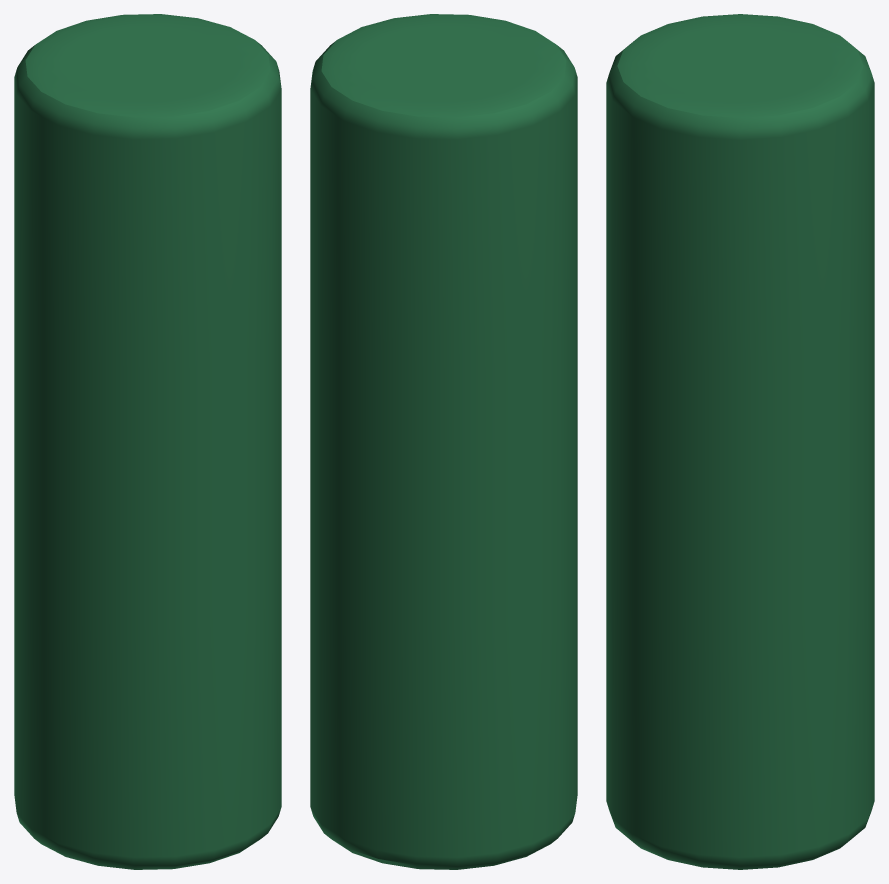
File: Log.fbx
3 views of the same model, side by side, from view 1: azimuth 30°, elevation 25°; view 2: azimuth 150°, elevation 25°; view 3: azimuth 270°, elevation 25° (orthographic).
Parts seen in each view (by area): view 1: Log; view 2: Log; view 3: Log.
Boxes of the visible parts, x1,y1,x2,y2 form: Log: (14, 14, 281, 869); Log: (310, 14, 577, 869); Log: (606, 14, 874, 869).
Bounding box in the file's own units: 2.69 × 8.37 × 2.69.
